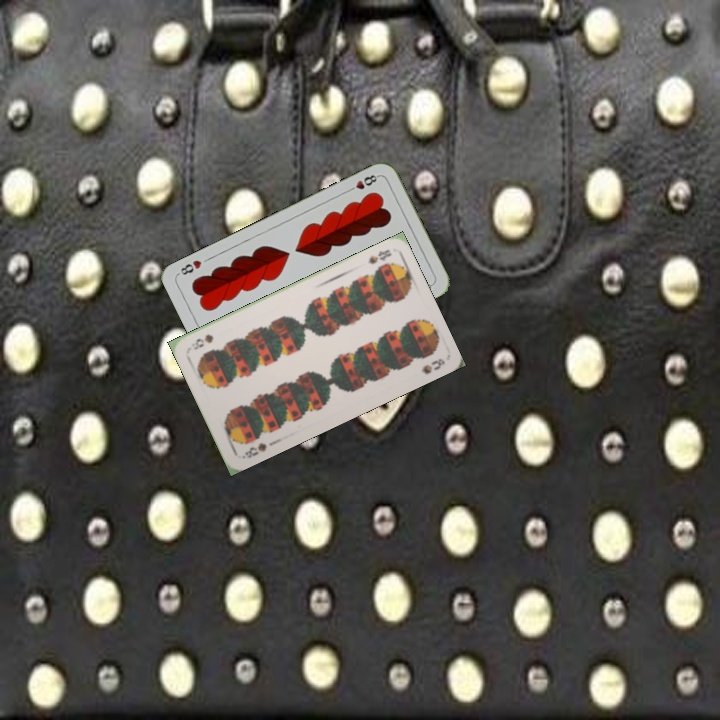H8: (344, 170, 382, 195)
S8: (238, 438, 269, 461), (364, 245, 394, 267)
